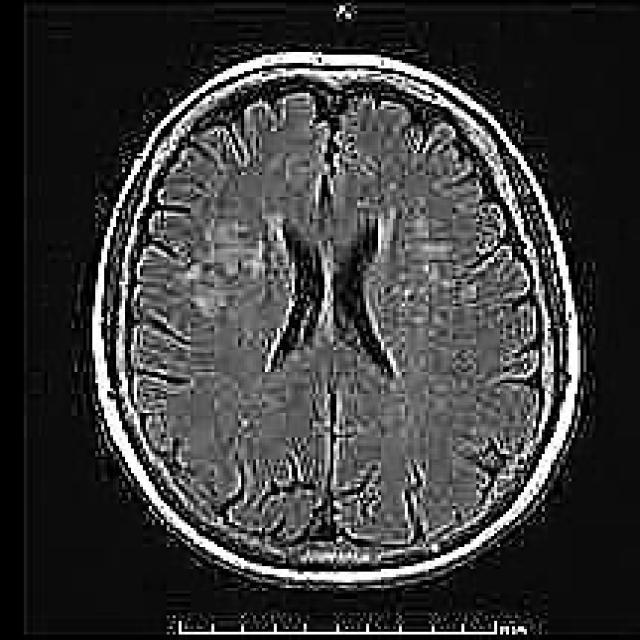notumor: (92, 52, 580, 585)
